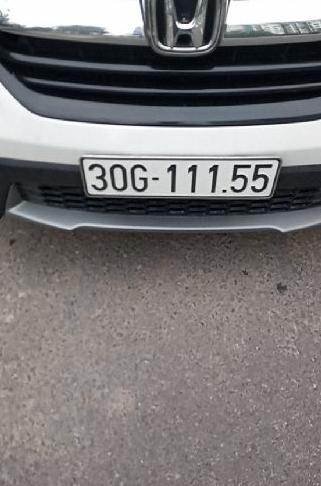Plate-iWeP: (82, 155, 283, 201)
